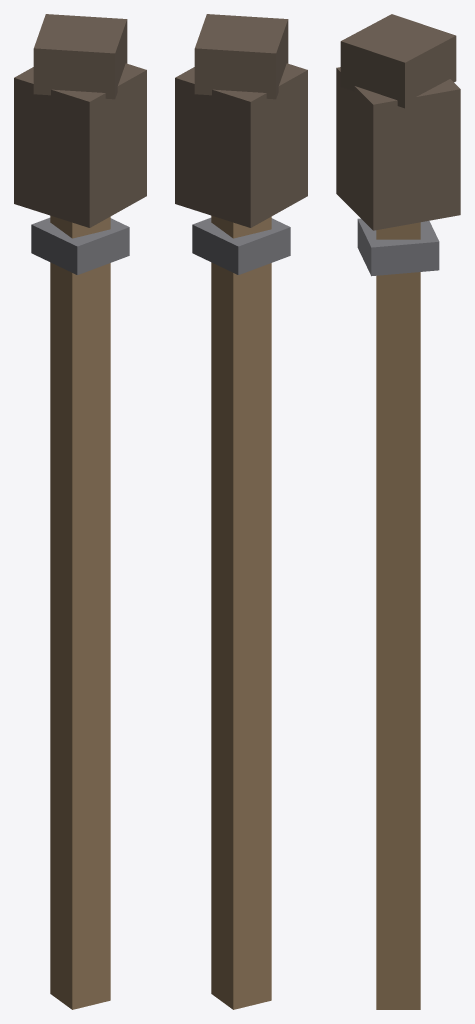
The model's file is torch.gltf.
3 renders of one model, left to right at view 1: azimuth 30°, elevation 25°; view 2: azimuth 210°, elevation 25°; view 3: azimuth 270°, elevation 25°, orthographic.
Parts seen in each view (by area): view 1: Torch; view 2: Torch; view 3: Torch.
Part boxes in pixels (box(x1,y1,x2,y2)): Torch: box(14, 14, 146, 1009); Torch: box(175, 14, 307, 1009); Torch: box(336, 14, 460, 1009).
Size of the model in its own units: 0.1966 by 1.68 by 0.1966.
